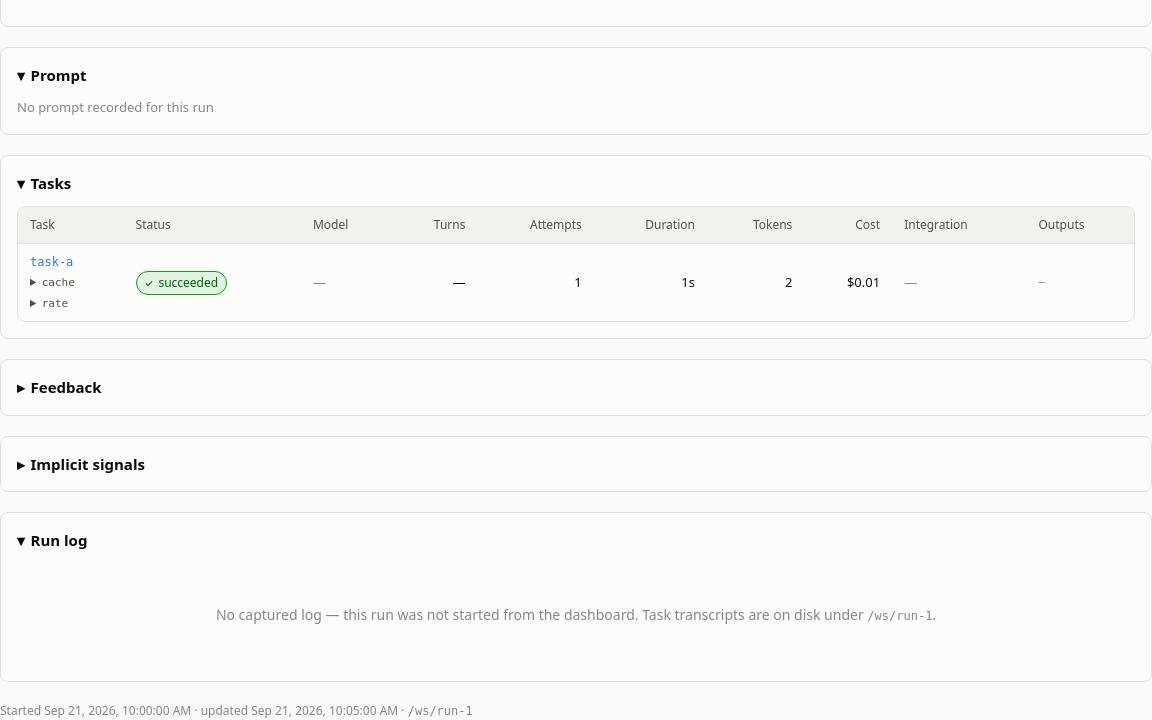
it: implicit signals + survival › renders survival rows
(page scrolled)
Click the button "▸ Implicit signals": coordinates (81, 464) x1=17 y1=453 x2=145 y2=475
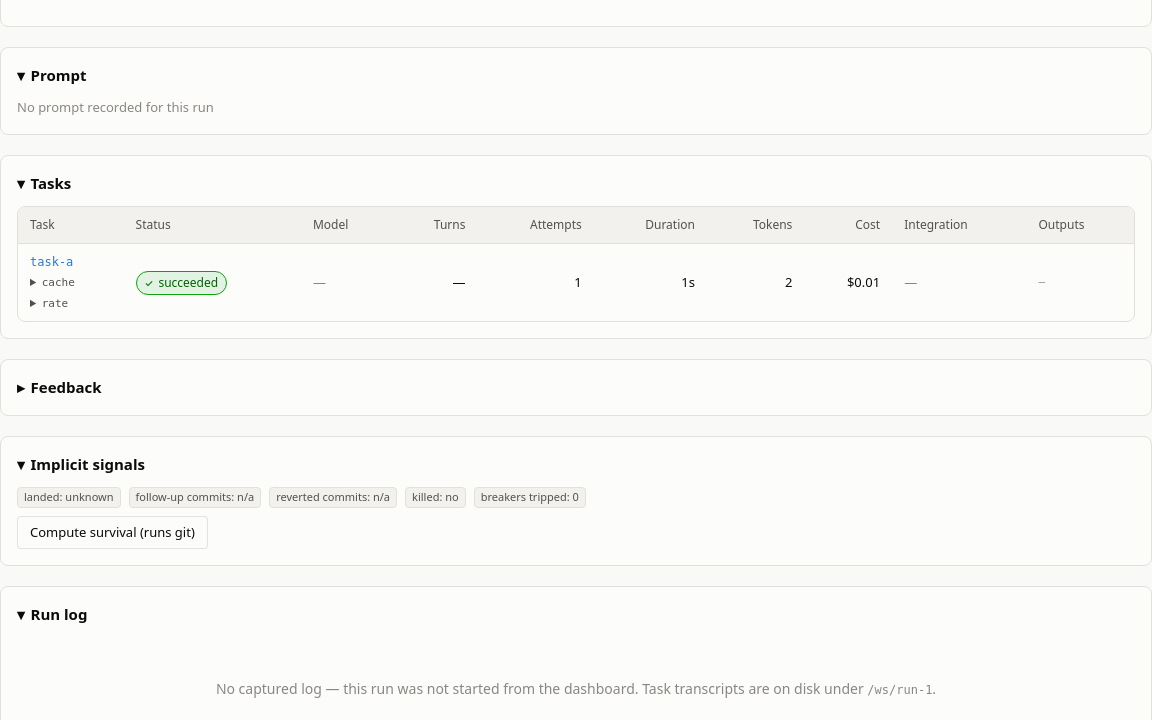
Click the button "Compute survival (runs git)": coordinates (112, 532) x1=17 y1=516 x2=208 y2=549
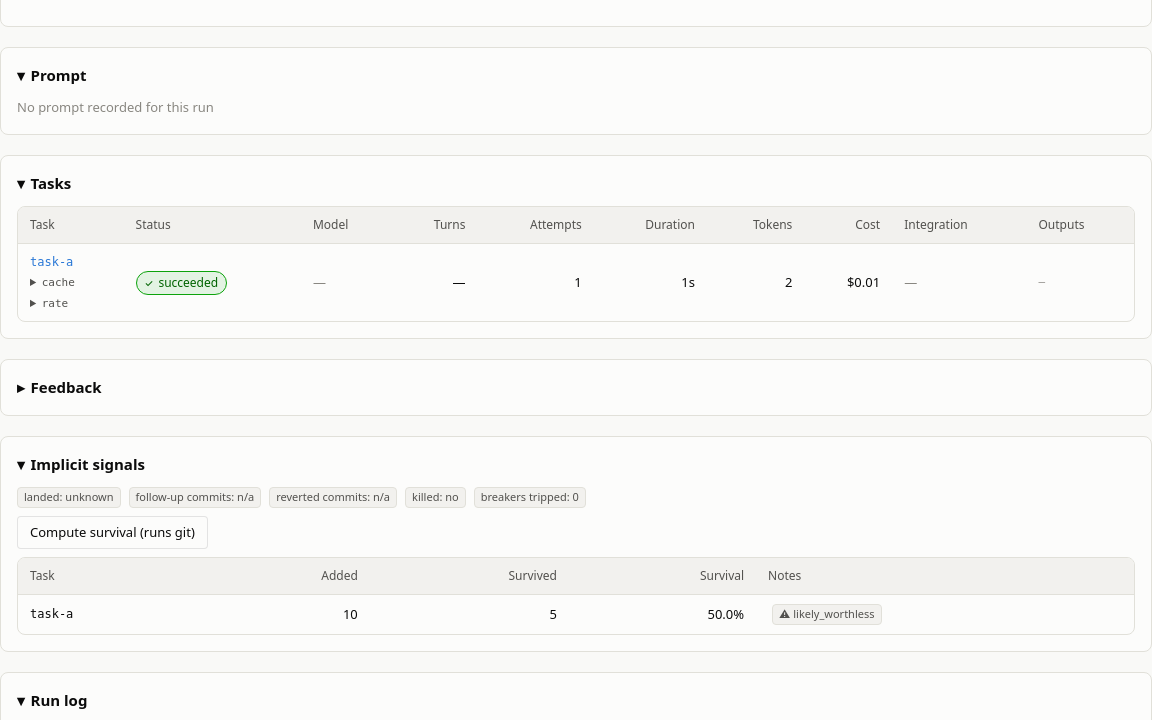
Check: the text "50.0%" is shown, box x1=569 y1=595 x2=756 y2=634
Check: the text "⚠ likely_worthless" is shown, box x1=772 y1=604 x2=882 y2=625
